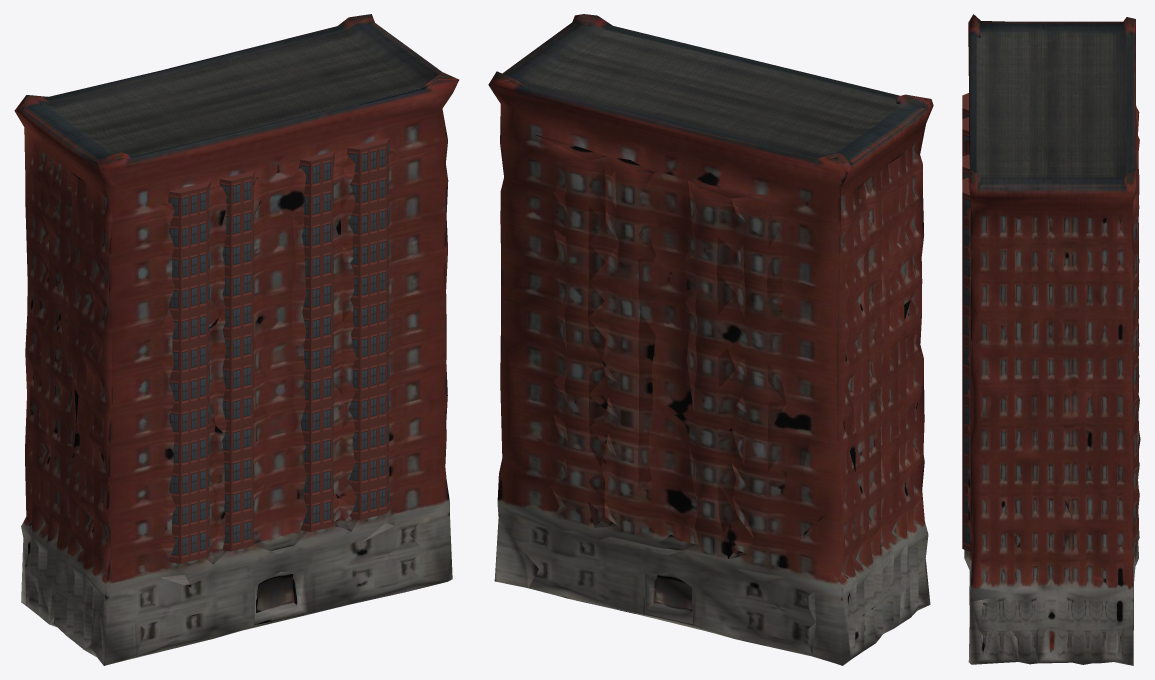
File: manhattan_building.glb
The picture shows the model from 3 angles, left to right: view 1: azimuth 30°, elevation 25°; view 2: azimuth 150°, elevation 25°; view 3: azimuth 270°, elevation 25°; orthographic projection. The views are drawn at different scales.
Visible parts, largest first — view 1: manhattan_building; view 2: manhattan_building; view 3: manhattan_building.
Boxes of the visible parts, x1=… form: manhattan_building: x1=14, y1=14, x2=458, y2=665; manhattan_building: x1=488, y1=14, x2=933, y2=665; manhattan_building: x1=962, y1=14, x2=1140, y2=665.
Bounding box in the file's own units: 45 × 61 × 20.1.
Materials: 2 (2 with a texture image).
